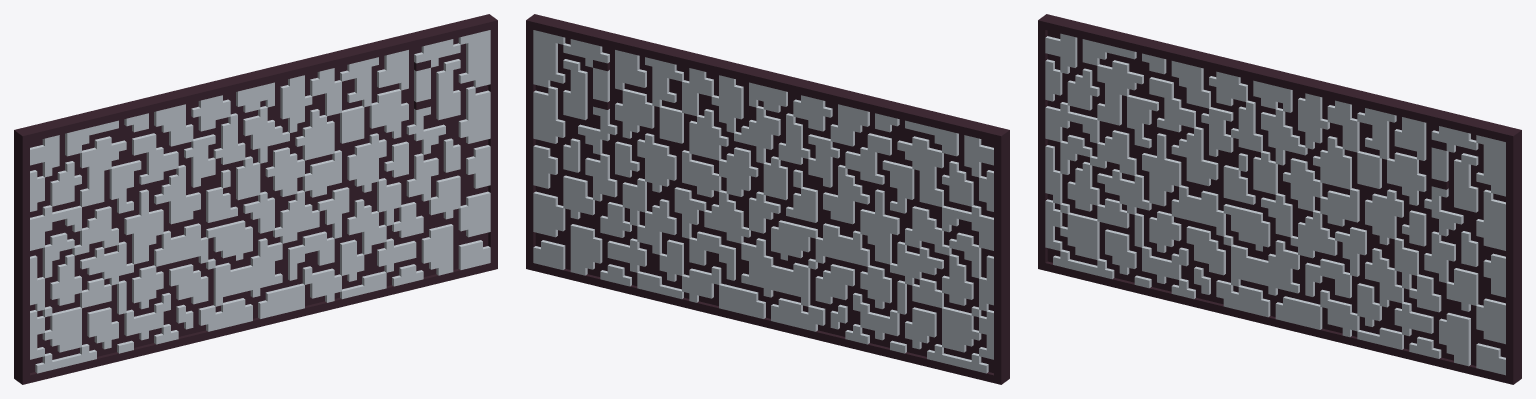
File: Cobblestone Wall (64x32x4).fbx
3 views of the same model, side by side, from view 1: azimuth 30°, elevation 25°; view 2: azimuth 150°, elevation 25°; view 3: azimuth 330°, elevation 25° (orthographic).
Parts seen in each view (by area): view 1: generated; view 2: generated; view 3: generated.
Boxes of the visible parts, x1=… form: generated: x1=14, y1=14, x2=497, y2=384; generated: x1=526, y1=14, x2=1009, y2=384; generated: x1=1038, y1=14, x2=1521, y2=384.
Size of the model in its own units: 2560 by 1280 by 80.
